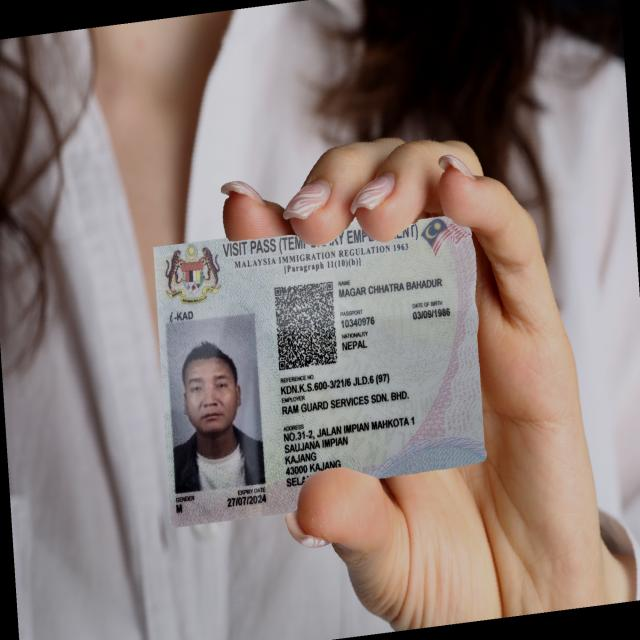ikad-temp: (152, 214, 487, 527)
